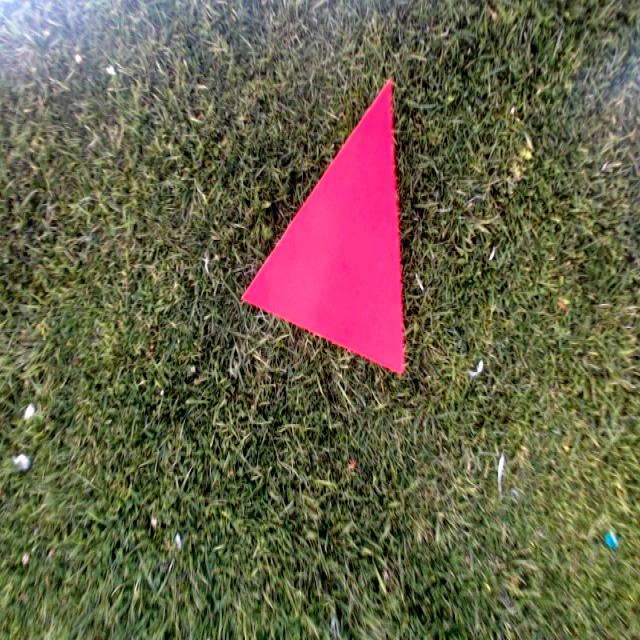red_triangle: (239, 80, 407, 374)
